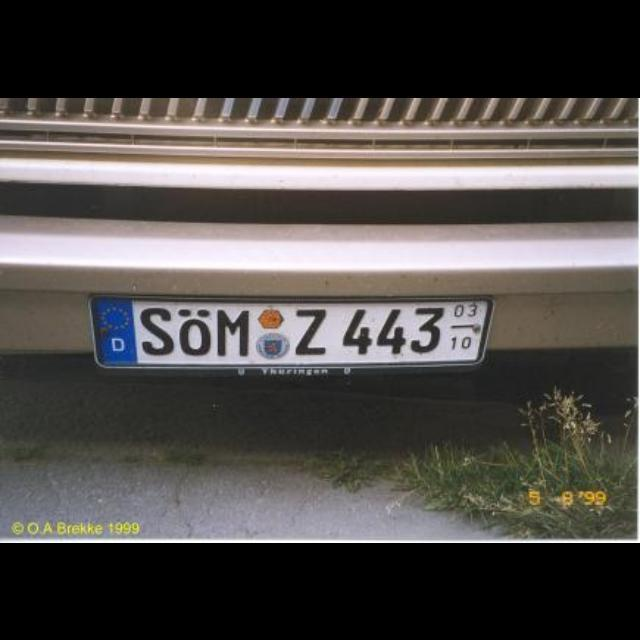license-plates: (90, 296, 494, 368)
